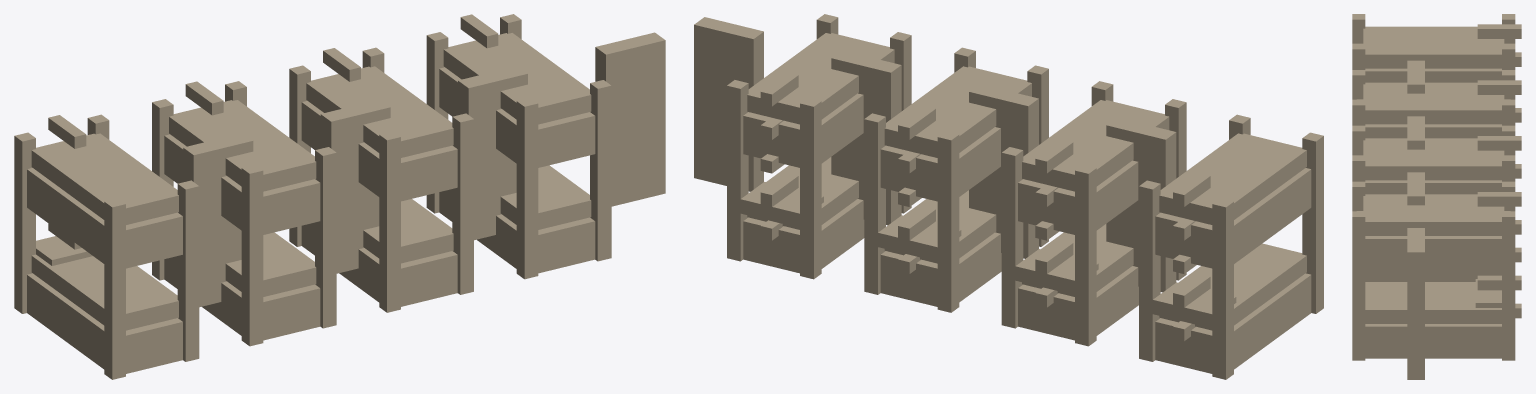
The model's file is SM_Int_Freighter_CrewQuarters_Bunks.fbx.
3 views of the same model, side by side, from view 1: azimuth 30°, elevation 25°; view 2: azimuth 150°, elevation 25°; view 3: azimuth 270°, elevation 25° (orthographic). The views are drawn at different scales.
Visible parts, largest first — view 1: SM_Int_Freighter_CrewQuarters_Bunks; view 2: SM_Int_Freighter_CrewQuarters_Bunks; view 3: SM_Int_Freighter_CrewQuarters_Bunks.
Boxes of the visible parts, x1,y1,x2,y2 form: SM_Int_Freighter_CrewQuarters_Bunks: (14, 14, 665, 379); SM_Int_Freighter_CrewQuarters_Bunks: (694, 14, 1323, 379); SM_Int_Freighter_CrewQuarters_Bunks: (1352, 14, 1521, 379).
Bounding box in the file's own units: 422 × 127 × 123.
